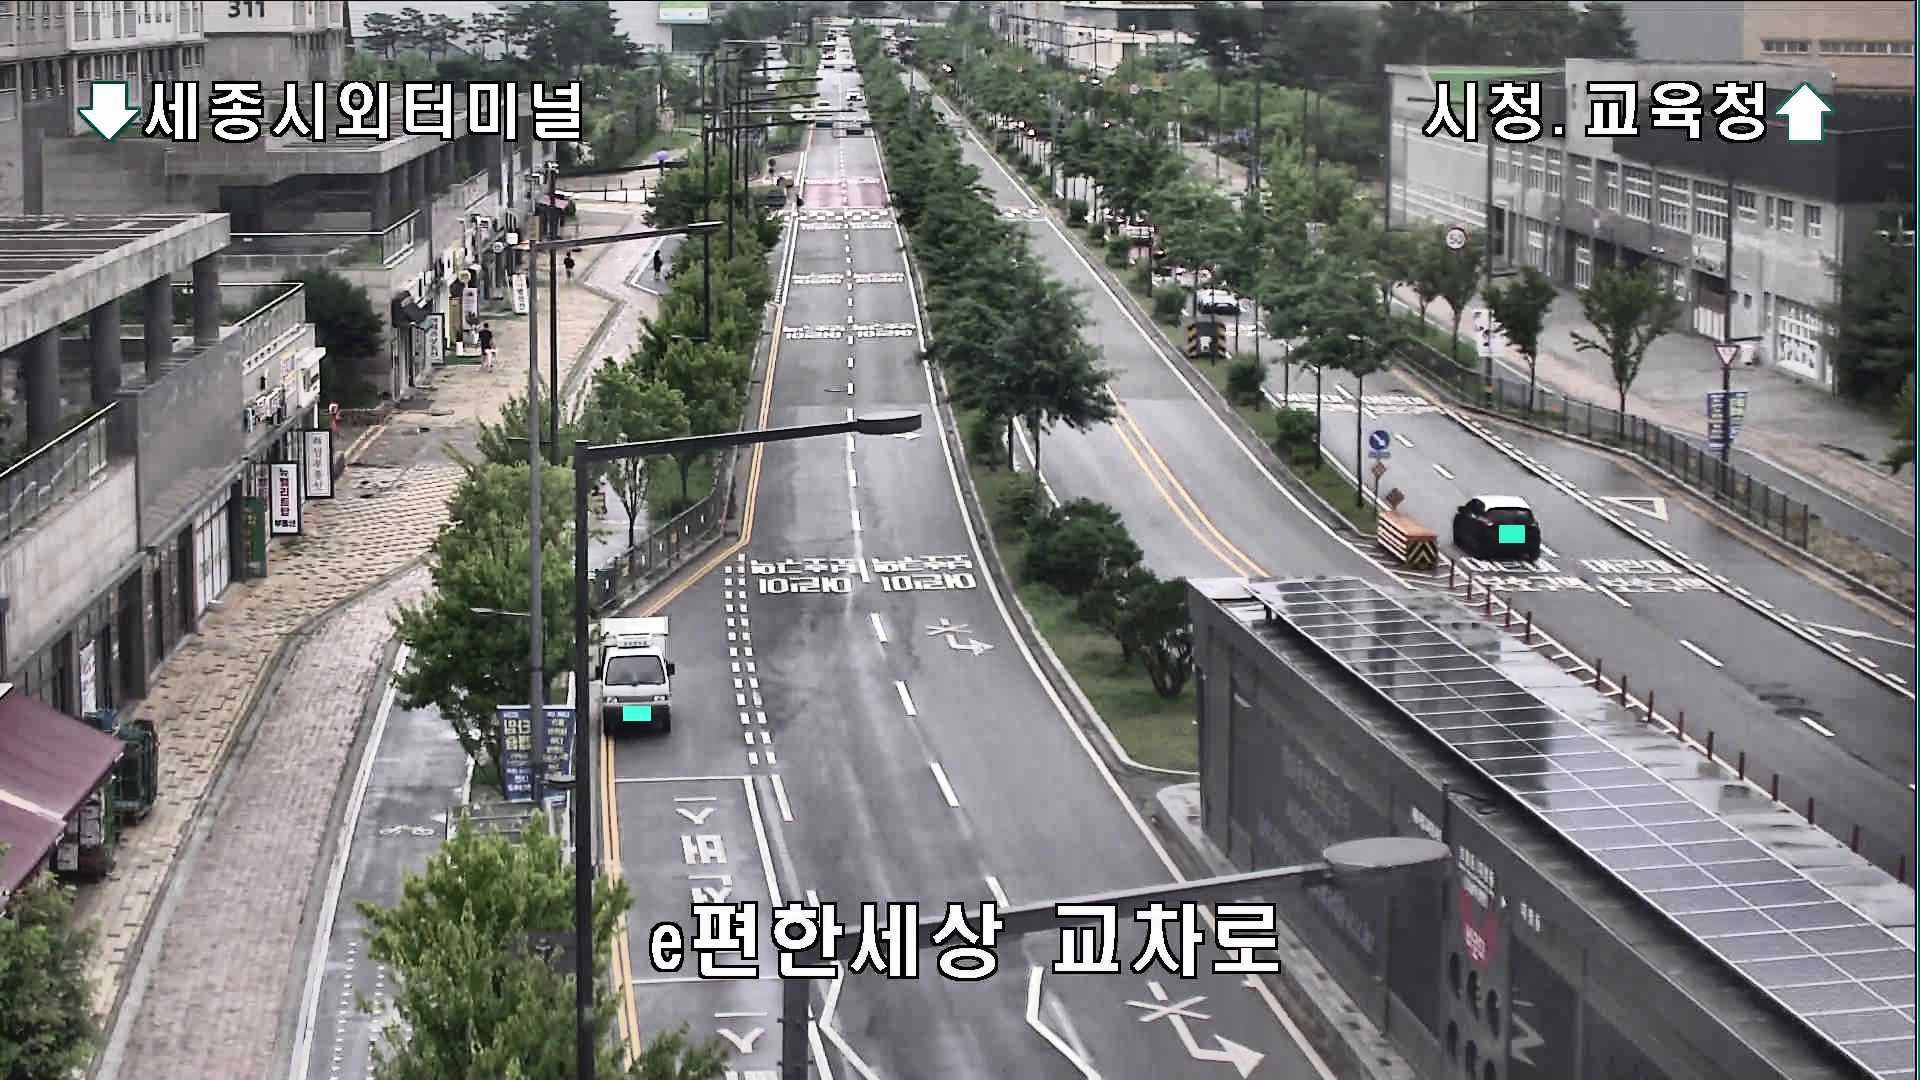crosswalk: (794, 193, 807, 223)
sidewalk: (649, 247, 670, 285), (477, 322, 496, 365), (562, 251, 580, 285), (485, 344, 497, 368)
